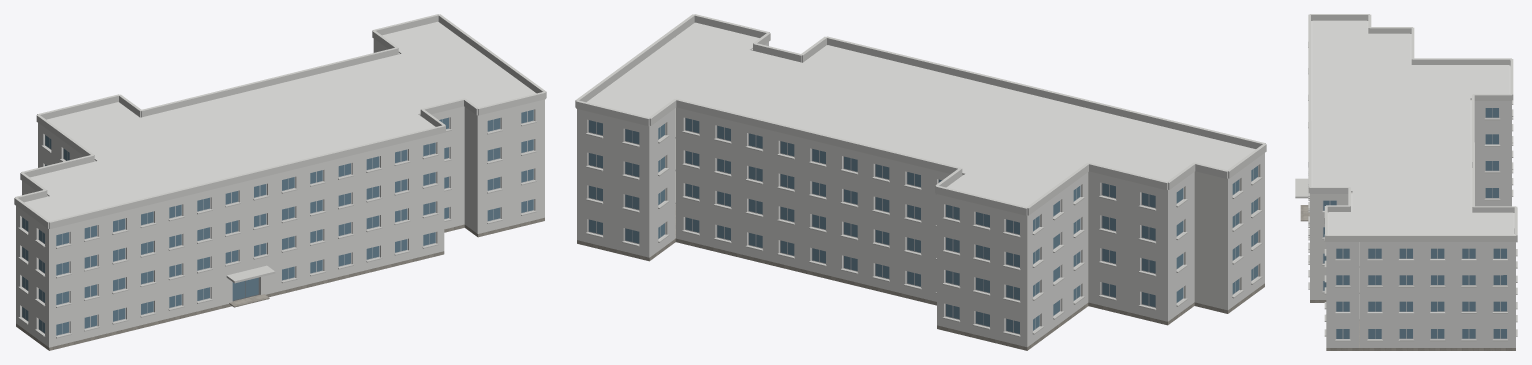
3 views of the same model, side by side, from view 1: azimuth 30°, elevation 25°; view 2: azimuth 150°, elevation 25°; view 3: azimuth 270°, elevation 25° (orthographic). The views are drawn at different scales.
Parts seen in each view (by area): view 1: dorm__white, dorm__whiteroof, dorm__cap, dorm__glass, dorm__sill, dorm__lightframe, dorm__stone; view 2: dorm__white, dorm__whiteroof, dorm__cap, dorm__glass, dorm__sill, dorm__lightframe, dorm__stone; view 3: dorm__whiteroof, dorm__white, dorm__cap, dorm__glass, dorm__sill, dorm__lightframe, dorm__stone.
Boxes of the visible parts, x1,y1,x2,y2 form: dorm__white: (16, 22, 544, 347); dorm__whiteroof: (24, 21, 535, 221); dorm__cap: (14, 14, 546, 283); dorm__glass: (22, 109, 533, 335); dorm__sill: (18, 121, 536, 338); dorm__lightframe: (22, 110, 534, 335); dorm__stone: (16, 217, 544, 350); dorm__white: (577, 23, 1264, 347); dorm__whiteroof: (587, 22, 1255, 206); dorm__cap: (575, 14, 1266, 215); dorm__glass: (589, 118, 1257, 333); dorm__sill: (586, 130, 1262, 337); dorm__lightframe: (588, 118, 1258, 334); dorm__stone: (577, 204, 1264, 350); dorm__whiteroof: (1312, 20, 1513, 234); dorm__white: (1309, 21, 1515, 347); dorm__cap: (1295, 14, 1517, 241); dorm__glass: (1323, 108, 1506, 338); dorm__sill: (1308, 42, 1517, 341); dorm__lightframe: (1322, 108, 1507, 339); dorm__stone: (1310, 300, 1515, 350).
Bounding box in the file's own units: 57.61 × 13.96 × 24.36.
Materials: 9 (1 with a texture image).
